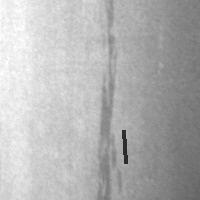inclusion: (90, 1, 125, 198), (121, 128, 127, 165)
